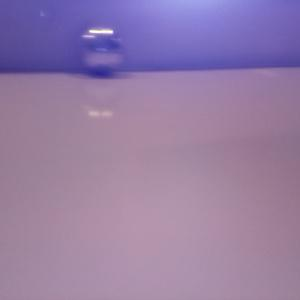alive_ball: (77, 26, 124, 75)
